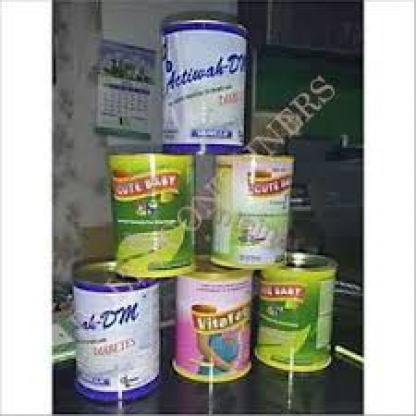METAL: (66, 255, 161, 403), (159, 17, 246, 150), (106, 152, 192, 277), (253, 247, 335, 372), (172, 259, 253, 383), (213, 148, 292, 268)
